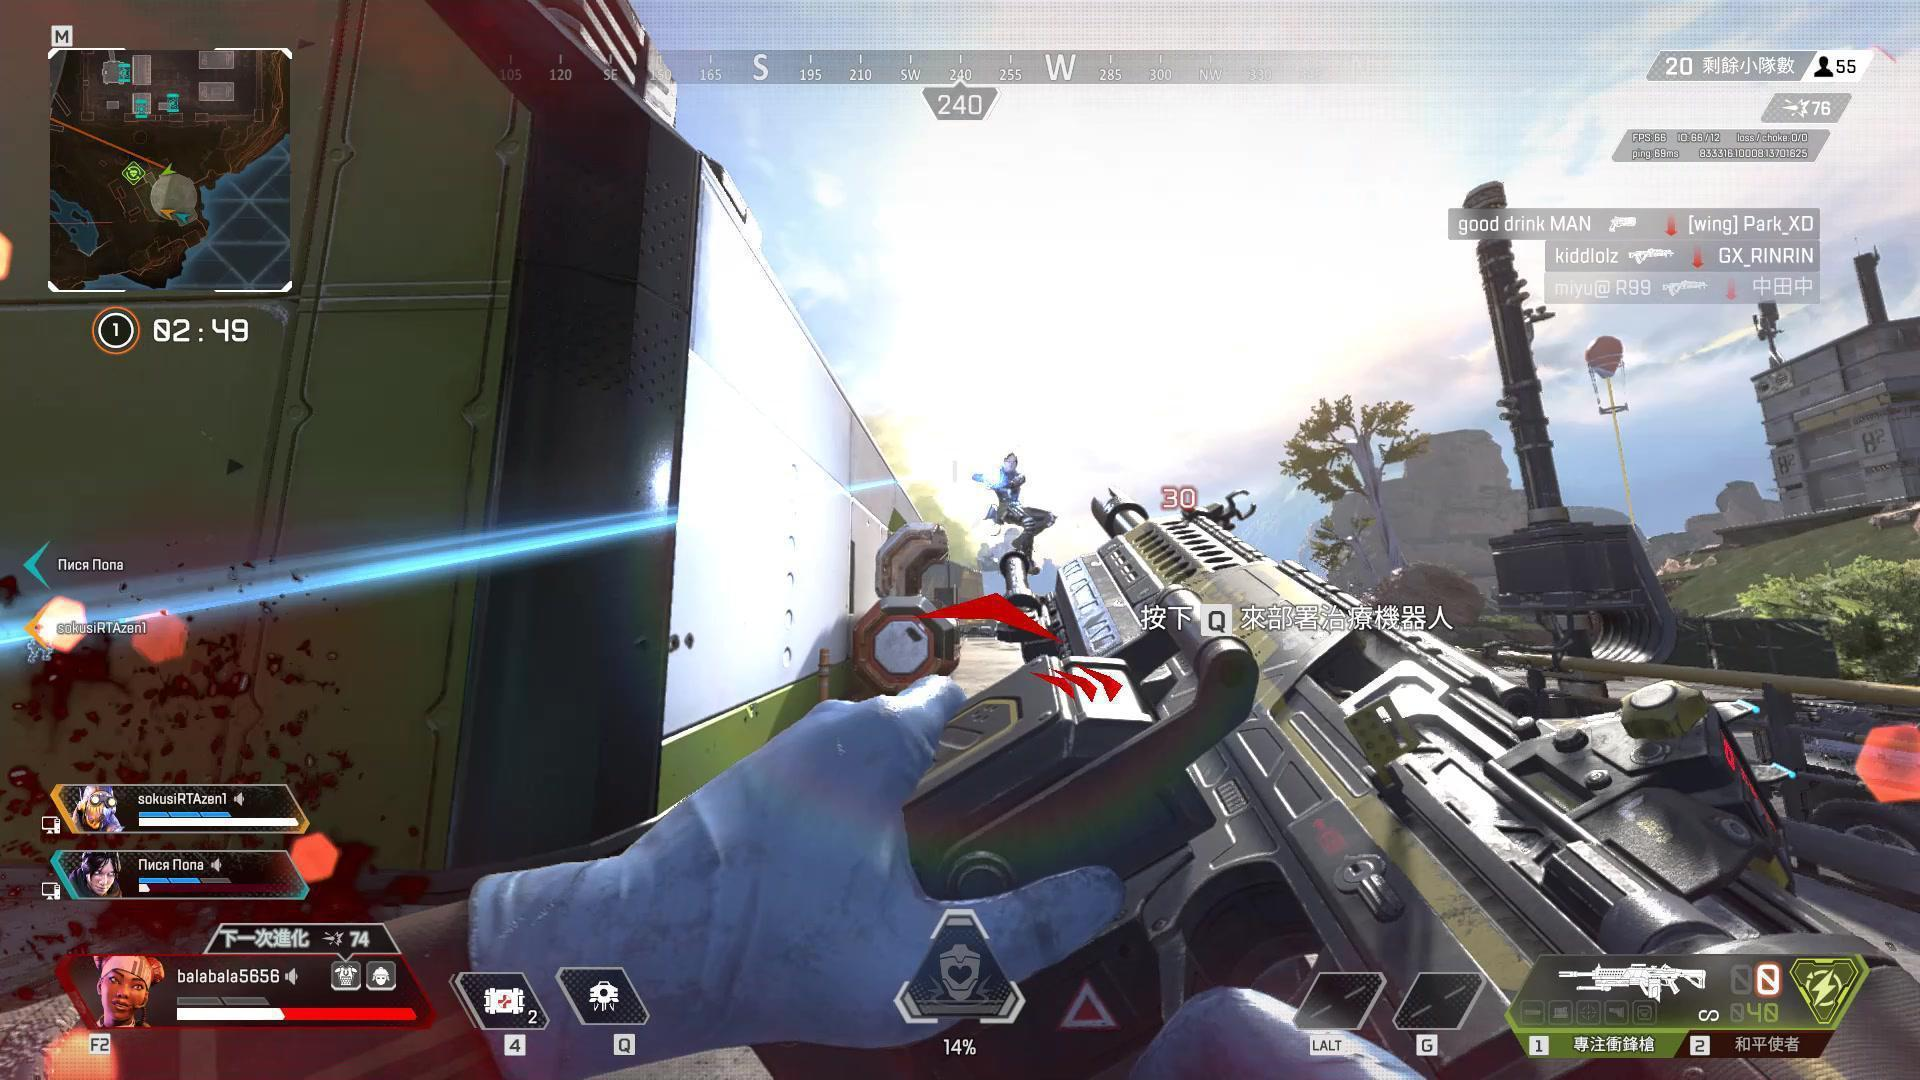avatar: (983, 451, 1031, 532)
